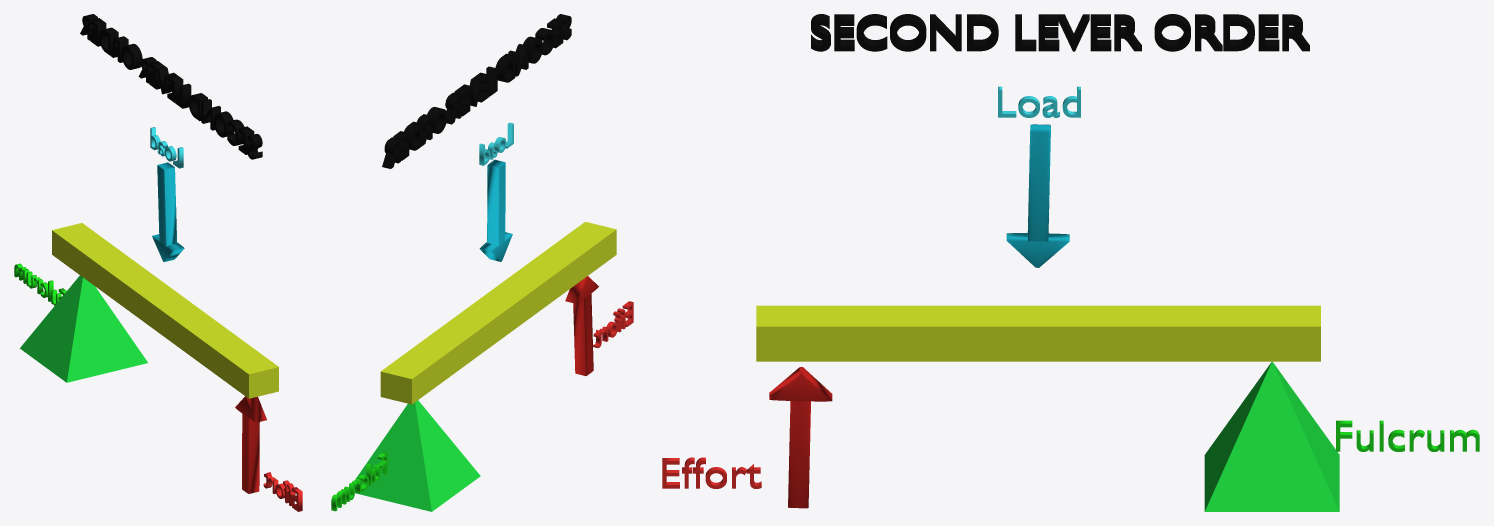
File: second lever order1 .gltf .gltf
3 renders of one model, left to right at view 1: azimuth 30°, elevation 25°; view 2: azimuth 150°, elevation 25°; view 3: azimuth 270°, elevation 25°, orthographic. The views are drawn at different scales.
Visible parts, largest first — view 1: Cube.001, Cube.002, Text.003, Cylinder.001, Cylinder.008, Text.002, Text, Text.001; view 2: Cube.001, Cube.002, Text.003, Cylinder.001, Cylinder.008, Text.002, Text, Text.001; view 3: Cube.001, Cube.002, Text.003, Cylinder.001, Cylinder.008, Text.002, Text, Text.001.
Part boxes in pixels (x1=…): Cube.001: x1=52, y1=223, x2=278, y2=398; Cube.002: x1=20, y1=275, x2=147, y2=382; Text.003: x1=80, y1=14, x2=262, y2=159; Cylinder.001: x1=152, y1=162, x2=184, y2=261; Cylinder.008: x1=235, y1=396, x2=266, y2=493; Text.002: x1=14, y1=263, x2=66, y2=305; Text: x1=263, y1=472, x2=302, y2=511; Text.001: x1=150, y1=127, x2=183, y2=168; Cube.001: x1=380, y1=221, x2=616, y2=404; Cube.002: x1=355, y1=400, x2=480, y2=511; Text.003: x1=382, y1=14, x2=571, y2=168; Cylinder.001: x1=479, y1=159, x2=512, y2=261; Cylinder.008: x1=565, y1=276, x2=598, y2=375; Text.002: x1=331, y1=452, x2=387, y2=511; Text: x1=593, y1=301, x2=633, y2=347; Text.001: x1=479, y1=122, x2=513, y2=165; Cube.001: x1=756, y1=305, x2=1320, y2=361; Cube.002: x1=1204, y1=361, x2=1339, y2=511; Text.003: x1=811, y1=14, x2=1309, y2=51; Cylinder.001: x1=1006, y1=124, x2=1069, y2=267; Cylinder.008: x1=769, y1=367, x2=832, y2=508; Text.002: x1=1336, y1=420, x2=1479, y2=451; Text: x1=662, y1=457, x2=761, y2=488; Text.001: x1=998, y1=86, x2=1080, y2=117.
Bounding box in the file's own units: 0.7413 × 3 × 4.49.
